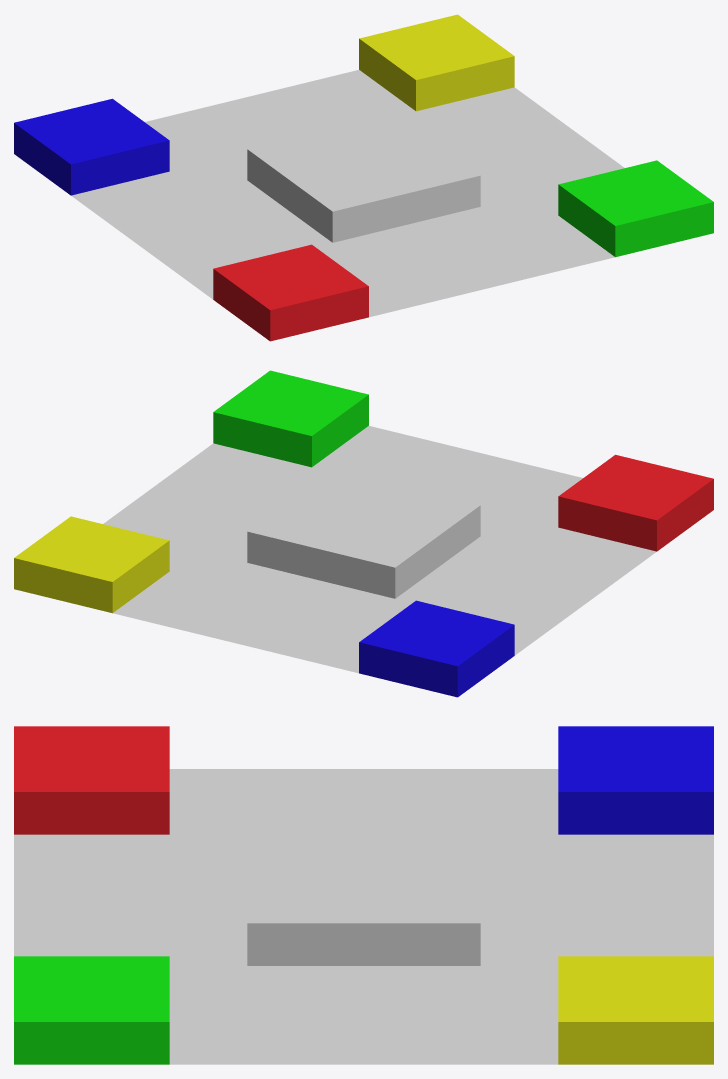
Rendered from tutorial.glb.
The picture shows the model from 3 angles, top to bottom: view 1: azimuth 30°, elevation 25°; view 2: azimuth 150°, elevation 25°; view 3: azimuth 270°, elevation 25°; orthographic projection. The views are drawn at different scales.
Parts seen in each view (by area): view 1: Grid, Grid.005, Grid.002, Grid.003, Grid.001, Grid.004; view 2: Grid, Grid.005, Grid.001, Grid.004, Grid.002, Grid.003; view 3: Grid, Grid.005, Grid.001, Grid.002, Grid.003, Grid.004.
Boxes of the visible parts, x1,y1,x2,y2 form: Grid: (71,70,624,317); Grid.005: (247,113,480,242); Grid.002: (14,98,169,195); Grid.003: (558,160,713,257); Grid.001: (213,244,368,341); Grid.004: (359,14,514,111); Grid: (103,426,656,673); Grid.005: (247,469,480,598); Grid.001: (558,454,713,551); Grid.004: (14,516,169,613); Grid.002: (359,600,514,697); Grid.003: (213,370,368,467); Grid: (14,769,713,1064); Grid.005: (247,825,480,965); Grid.001: (14,726,169,834); Grid.002: (558,726,713,834); Grid.003: (14,956,169,1064); Grid.004: (558,956,713,1064).
Size of the model in its own units: 5.97 by 0.4012 by 5.97.
